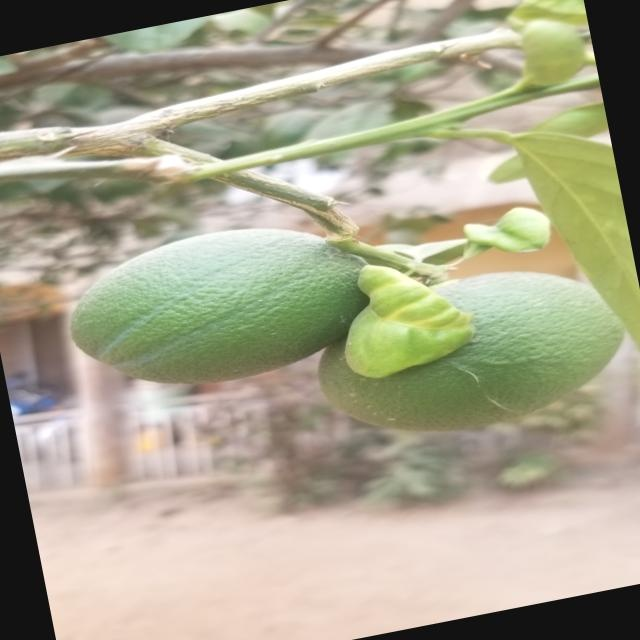agrume: (46, 196, 398, 424), (293, 238, 640, 462)
